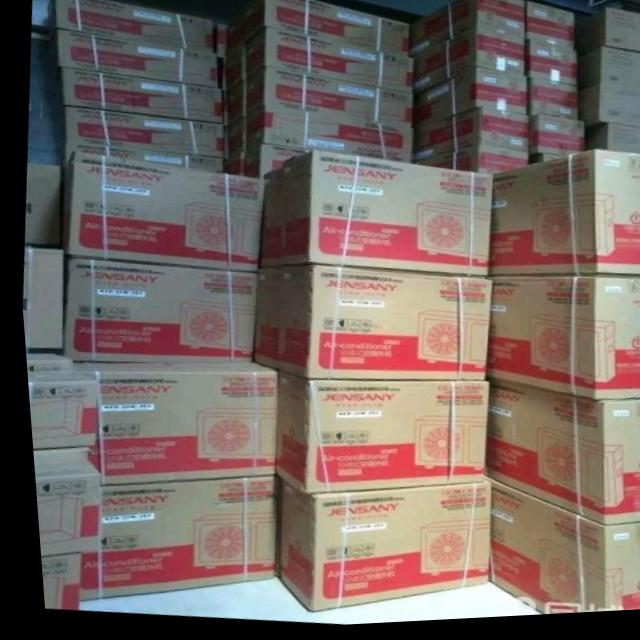box: (254, 153, 492, 280), (267, 476, 480, 614), (248, 267, 488, 384), (268, 373, 482, 497), (54, 152, 259, 275), (68, 362, 271, 486), (69, 478, 270, 601), (477, 383, 640, 531), (480, 485, 640, 620), (57, 256, 255, 365), (484, 156, 640, 282), (480, 283, 640, 405), (222, 29, 411, 96), (224, 70, 409, 133), (221, 0, 407, 59), (43, 31, 219, 92), (223, 113, 410, 167), (44, 68, 221, 124), (47, 105, 222, 160), (44, 0, 211, 55), (409, 31, 525, 96), (408, 72, 524, 132), (27, 454, 93, 557), (409, 0, 525, 56), (409, 112, 527, 164), (22, 370, 92, 448), (18, 250, 57, 347), (411, 149, 529, 180), (571, 15, 640, 59), (574, 52, 640, 96), (575, 90, 640, 134), (525, 44, 577, 91), (524, 80, 576, 126), (32, 552, 69, 609), (527, 6, 573, 51), (529, 120, 578, 160), (580, 130, 640, 162)
